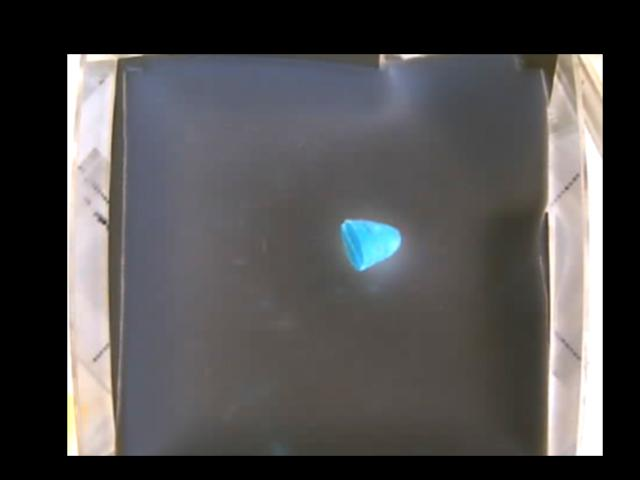Carrot: (341, 219, 402, 270)
